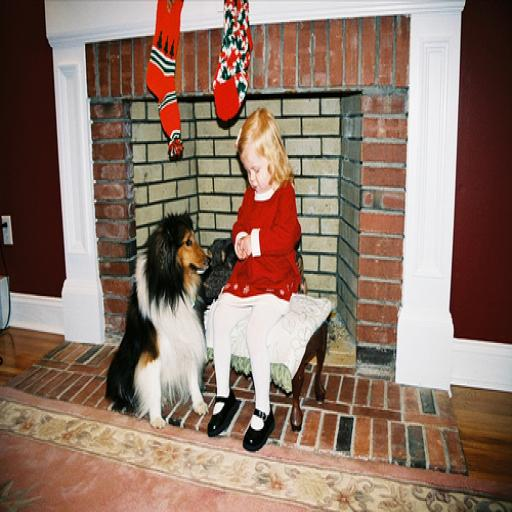dog_face: (155, 210, 215, 280)
